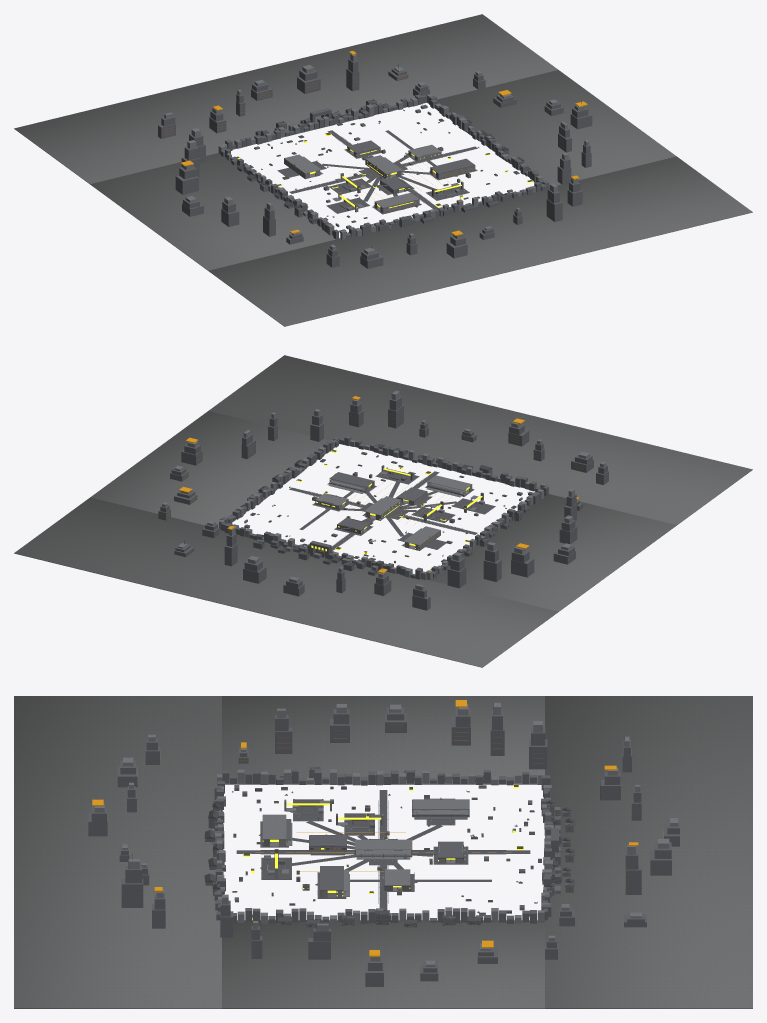
The picture shows the model from 3 angles, top to bottom: view 1: azimuth 30°, elevation 25°; view 2: azimuth 150°, elevation 25°; view 3: azimuth 270°, elevation 25°; orthographic projection. The views are drawn at different scales.
Visible parts, largest first — view 1: HB_z07_LOD0_terrain, HB_z07_LOD0_wall_alt, HB_z07_LOD0_wall, HB_z07_LOD0_road, HB_z07_LOD0_trim, HB_z07_LOD0_glass, HB_z07_LOD0_obstacle; view 2: HB_z07_LOD0_terrain, HB_z07_LOD0_wall_alt, HB_z07_LOD0_wall, HB_z07_LOD0_road, HB_z07_LOD0_trim, HB_z07_LOD0_obstacle; view 3: HB_z07_LOD0_terrain, HB_z07_LOD0_wall_alt, HB_z07_LOD0_wall, HB_z07_LOD0_road, HB_z07_LOD0_trim, HB_z07_LOD0_obstacle, HB_z07_LOD0_accent, HB_z07_LOD0_glass, HB_z07_LOD0_emissive.
Boxes of the visible parts, <box> form: HB_z07_LOD0_terrain: <box>14,14,752,326</box>; HB_z07_LOD0_wall_alt: <box>158,59,592,268</box>; HB_z07_LOD0_wall: <box>164,53,589,254</box>; HB_z07_LOD0_road: <box>261,110,482,232</box>; HB_z07_LOD0_trim: <box>236,64,581,248</box>; HB_z07_LOD0_glass: <box>163,75,584,229</box>; HB_z07_LOD0_obstacle: <box>250,106,519,232</box>; HB_z07_LOD0_terrain: <box>14,355,752,667</box>; HB_z07_LOD0_wall_alt: <box>158,396,608,610</box>; HB_z07_LOD0_wall: <box>162,390,606,590</box>; HB_z07_LOD0_road: <box>257,470,505,556</box>; HB_z07_LOD0_trim: <box>184,444,564,573</box>; HB_z07_LOD0_obstacle: <box>238,453,531,571</box>; HB_z07_LOD0_terrain: <box>14,696,752,1008</box>; HB_z07_LOD0_wall_alt: <box>88,707,679,986</box>; HB_z07_LOD0_wall: <box>94,702,678,966</box>; HB_z07_LOD0_road: <box>232,790,537,912</box>; HB_z07_LOD0_trim: <box>132,767,574,926</box>; HB_z07_LOD0_obstacle: <box>232,785,560,916</box>; HB_z07_LOD0_accent: <box>92,700,638,956</box>; HB_z07_LOD0_glass: <box>129,724,663,925</box>; HB_z07_LOD0_emissive: <box>243,784,523,919</box>.
Size of the model in its own units: 746 by 58.19 by 746.
10 materials, 8 textured.
